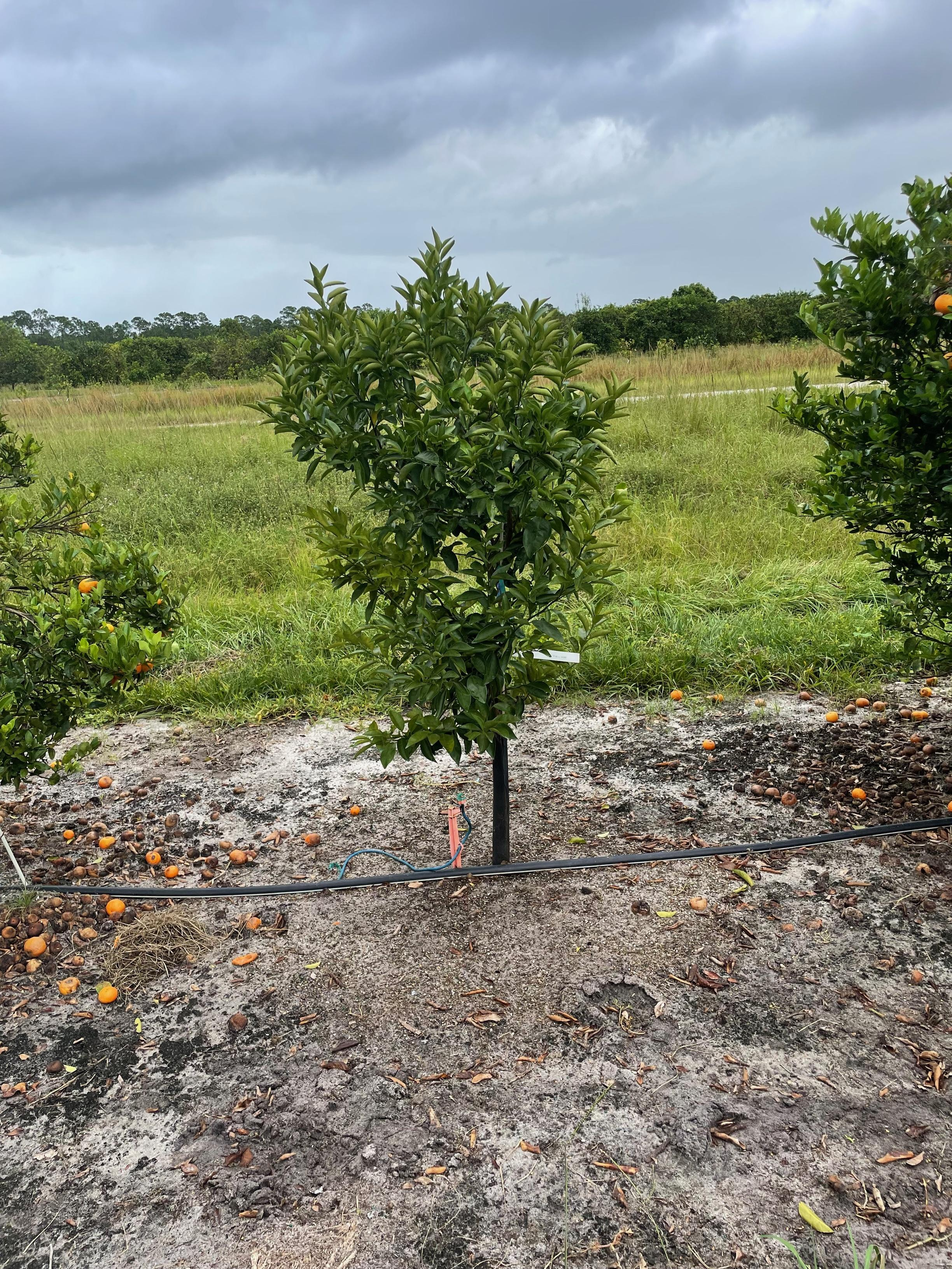fruit_on_ground: (933, 291, 952, 317), (77, 576, 102, 595), (151, 619, 173, 639), (74, 519, 95, 537), (97, 618, 116, 635), (941, 349, 952, 375), (139, 659, 154, 673), (129, 661, 143, 675)
fruit_on_tree: (96, 983, 119, 1005), (23, 935, 47, 956), (227, 1010, 249, 1031), (58, 975, 81, 995), (22, 957, 45, 974), (105, 897, 126, 915), (688, 893, 708, 911), (779, 790, 798, 807), (144, 848, 163, 865), (229, 848, 249, 864), (45, 1057, 64, 1073), (116, 909, 136, 924), (850, 785, 868, 801), (25, 922, 44, 937), (246, 914, 263, 930), (303, 831, 321, 846), (163, 812, 179, 828), (763, 783, 780, 798), (70, 865, 88, 879), (97, 836, 116, 849), (700, 736, 716, 751), (9, 821, 26, 835), (747, 783, 764, 797), (2, 925, 17, 940), (164, 863, 179, 878), (68, 952, 84, 966), (796, 688, 812, 702), (668, 687, 684, 701), (97, 774, 113, 788), (912, 708, 929, 721), (217, 837, 232, 851), (918, 685, 933, 699), (908, 731, 924, 744), (855, 695, 871, 708), (824, 709, 840, 722), (60, 909, 75, 922), (898, 705, 913, 718), (201, 865, 216, 878), (873, 699, 888, 712), (51, 855, 67, 867), (944, 794, 952, 817), (74, 854, 88, 867), (62, 827, 76, 840), (349, 803, 363, 816), (48, 894, 61, 907), (68, 801, 82, 813), (276, 827, 290, 839), (921, 742, 935, 754), (204, 853, 218, 865), (923, 675, 938, 686), (843, 701, 856, 713), (712, 692, 725, 704), (83, 767, 97, 778), (172, 724, 184, 736), (121, 828, 134, 839), (31, 872, 43, 883), (77, 816, 89, 827), (50, 760, 61, 771), (754, 697, 766, 707)
